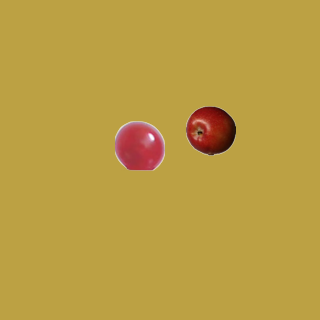Apple Braeburn: (185, 105, 235, 155)
Redcurrant: (114, 120, 164, 170)
